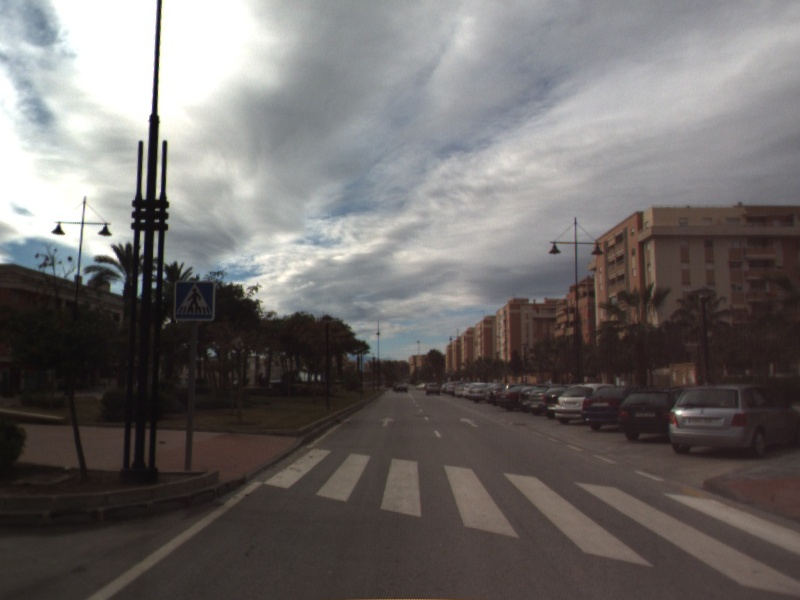STRAIGHT: (458, 416, 481, 429), (377, 415, 397, 429)
